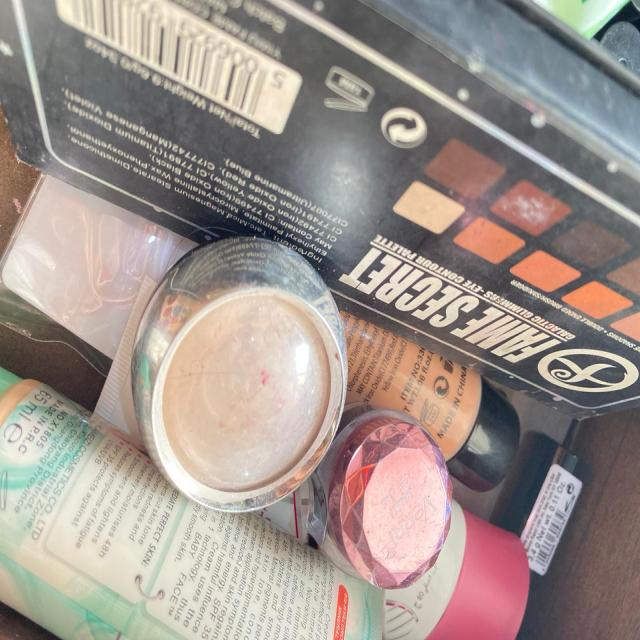bb cream: (0, 351, 528, 640)
powder: (119, 195, 352, 528)
